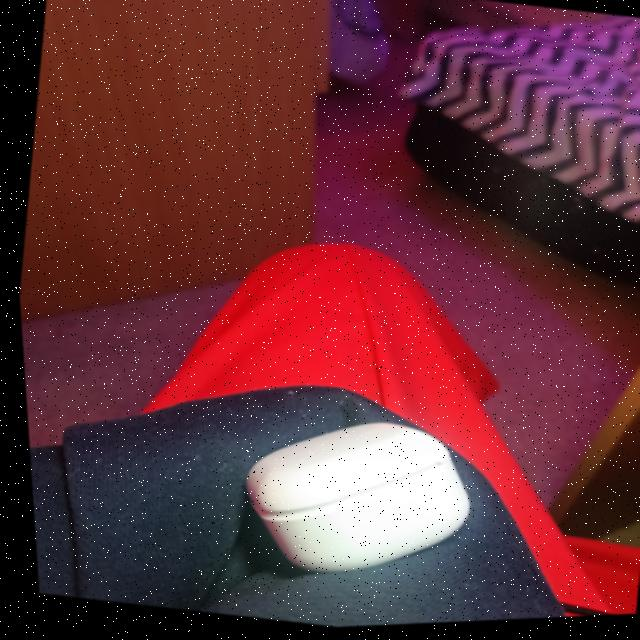headphones: (240, 426, 463, 575)
